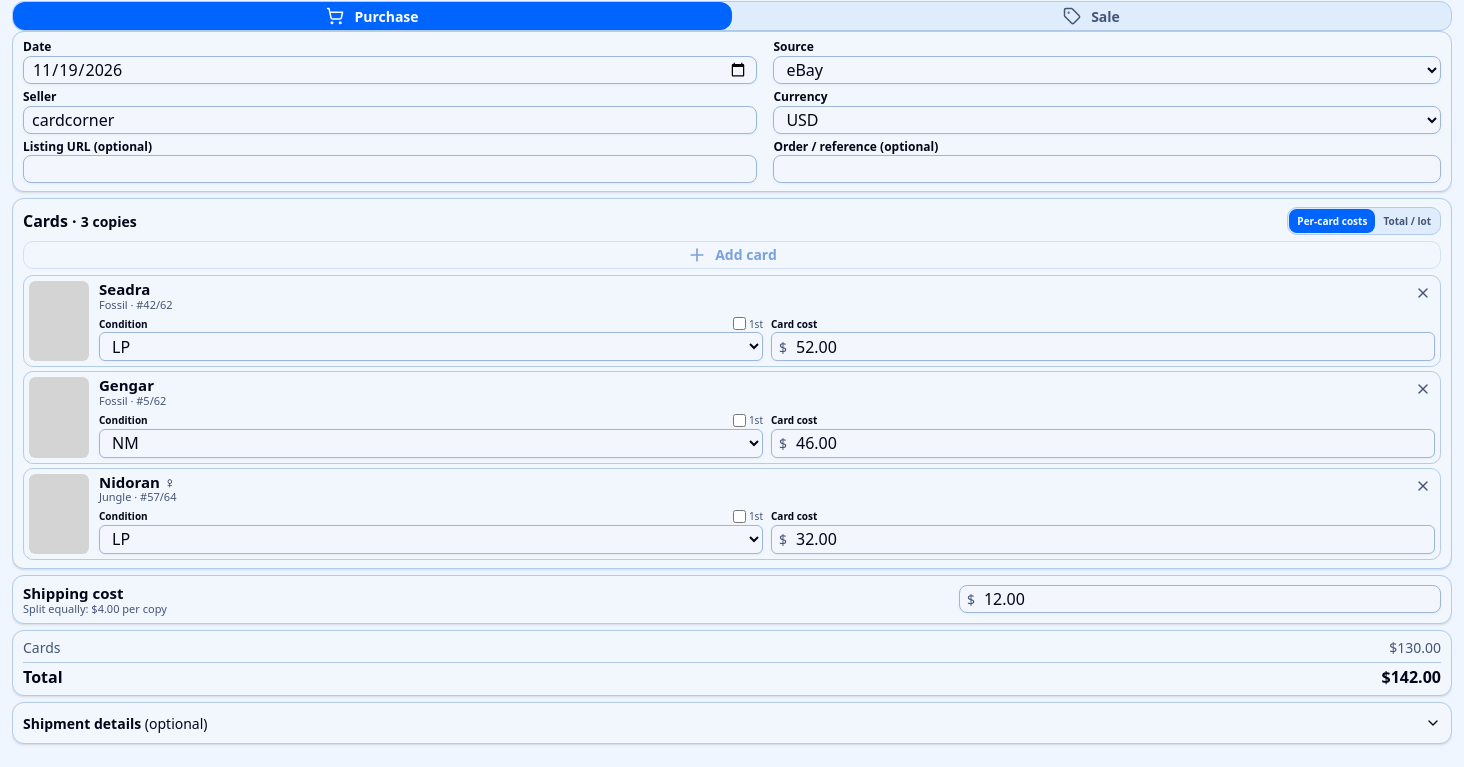
never silently relabels entered currency amounts and supports immediate undo
Select "GBP" in the dropdown labelled "Currency" at (1107, 120), box [773, 106, 1441, 134]
(page scrolled)
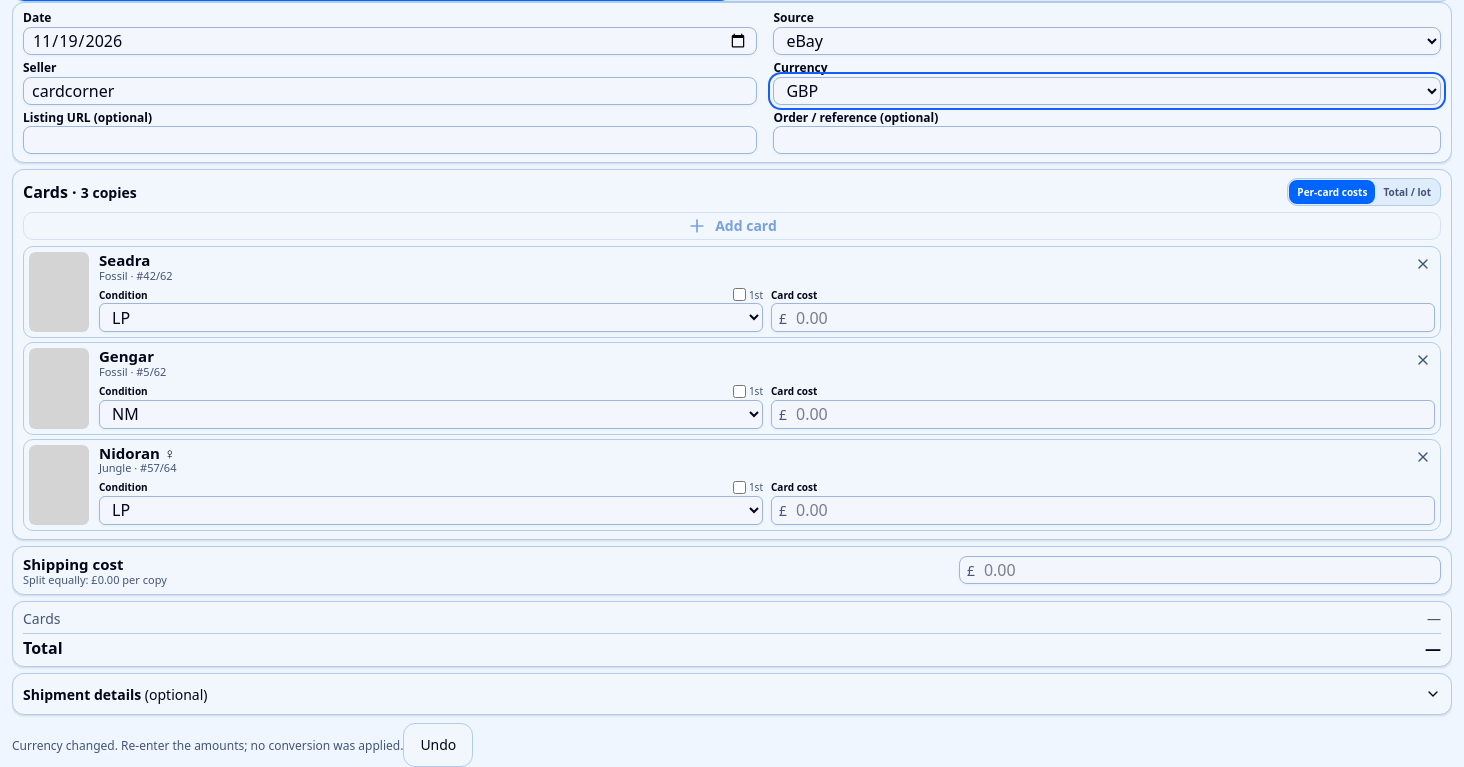
Check: the field named "Card cost 1" is empty, box [771, 304, 1435, 332]
Check: the message shows "no conversion was applied", box [12, 737, 403, 754]
Click the button "Undo" at (438, 745), box [403, 723, 473, 766]
(page scrolled)
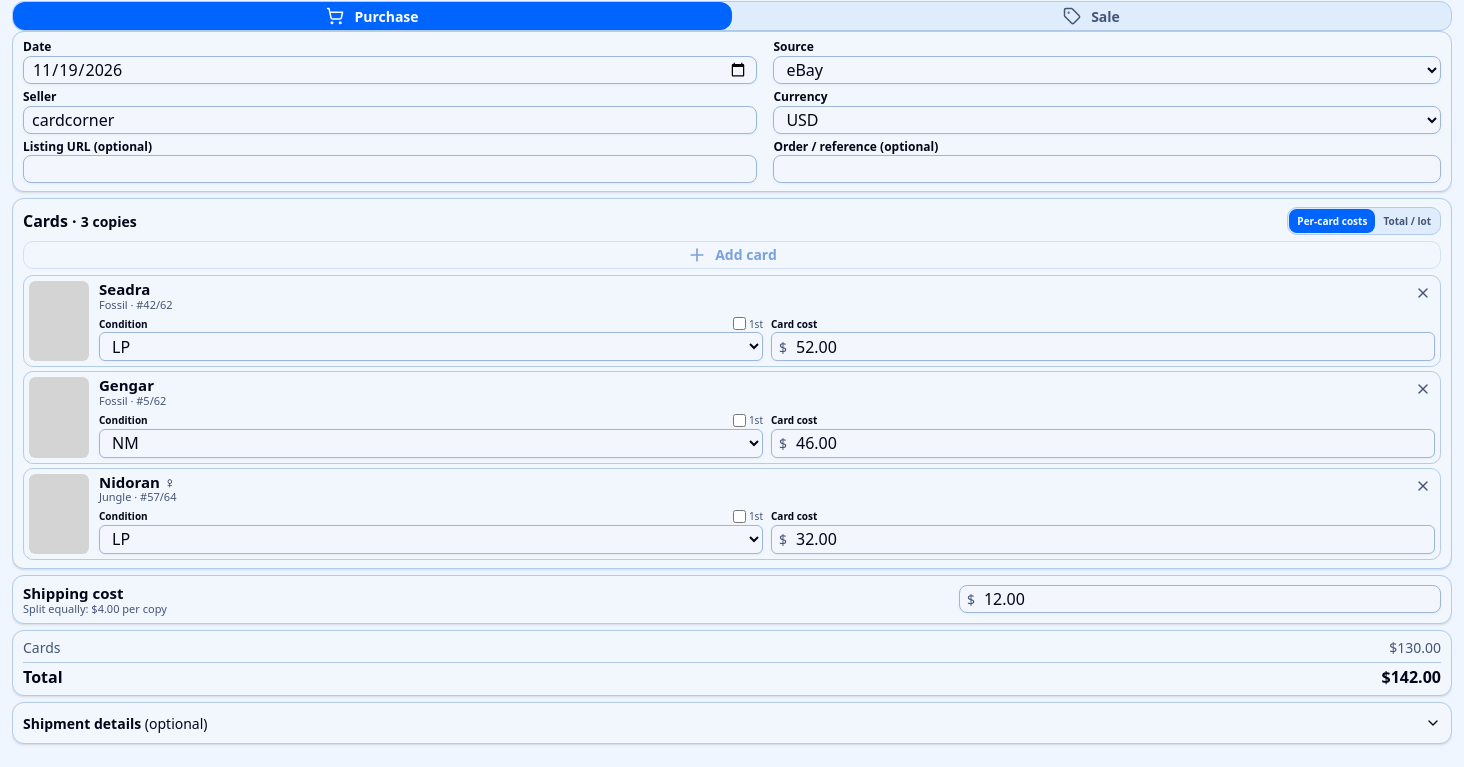
Check: the text "$142.00" is shown, box [1382, 666, 1441, 688]
